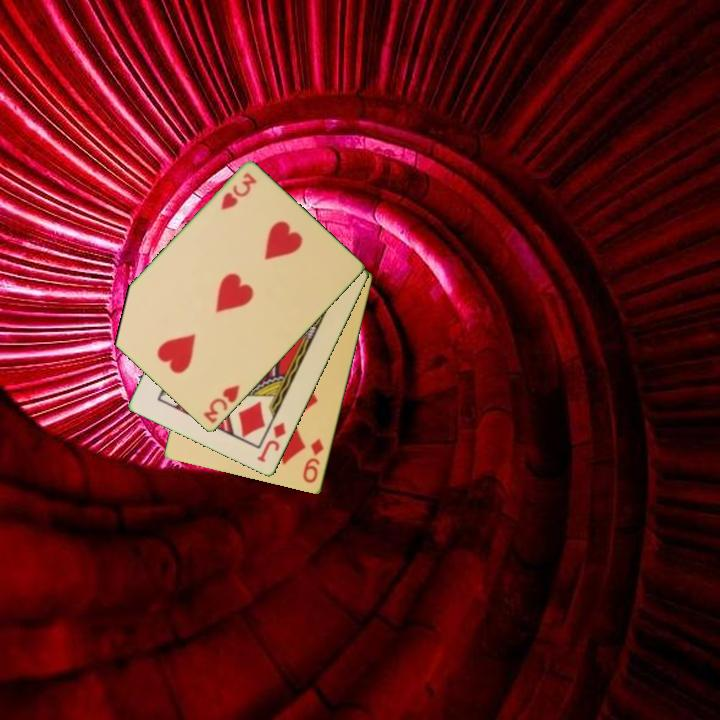3h: (200, 381, 243, 426), (217, 169, 260, 214)
9d: (299, 435, 327, 486)
Jd: (254, 419, 289, 465)
